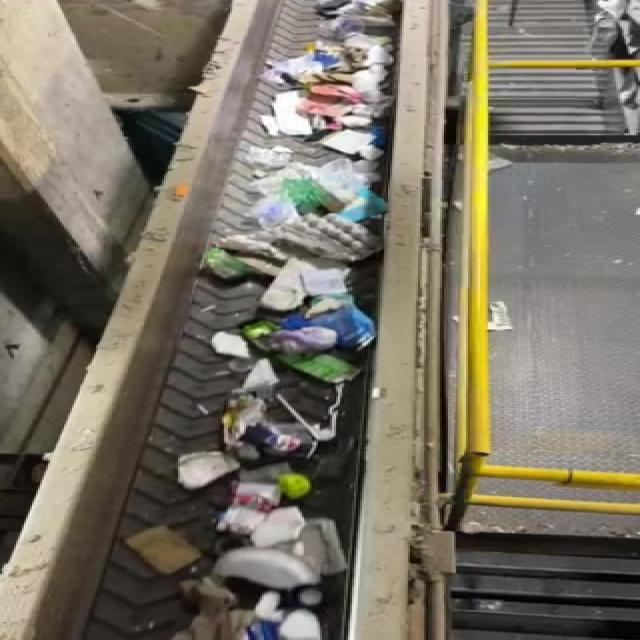metal: (232, 418, 339, 467)
paper: (120, 523, 212, 583), (170, 446, 243, 491)
pp: (223, 542, 334, 600), (220, 467, 287, 539)
